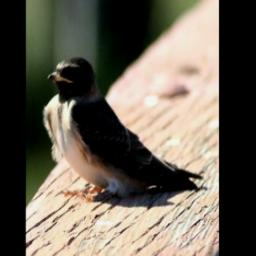Swallow: (42, 55, 206, 203)
